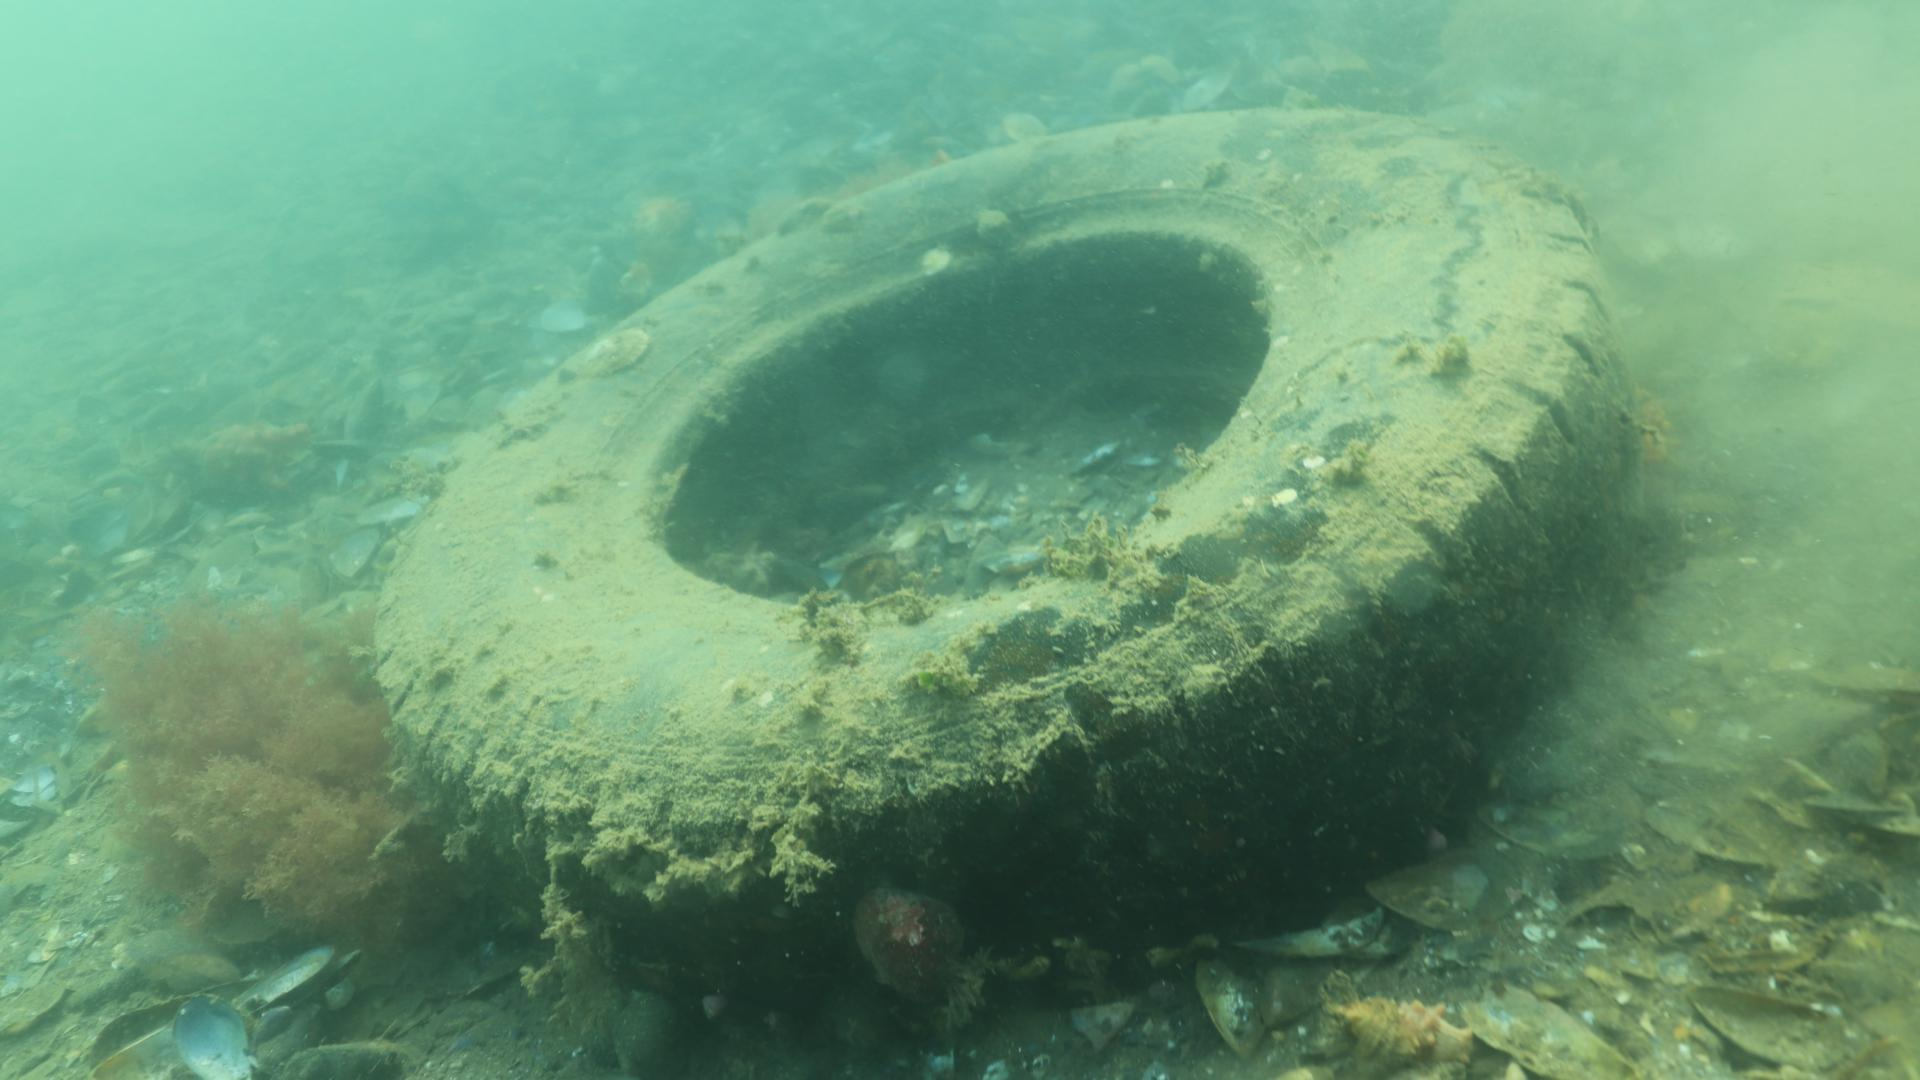tire: (371, 107, 1644, 1023)
